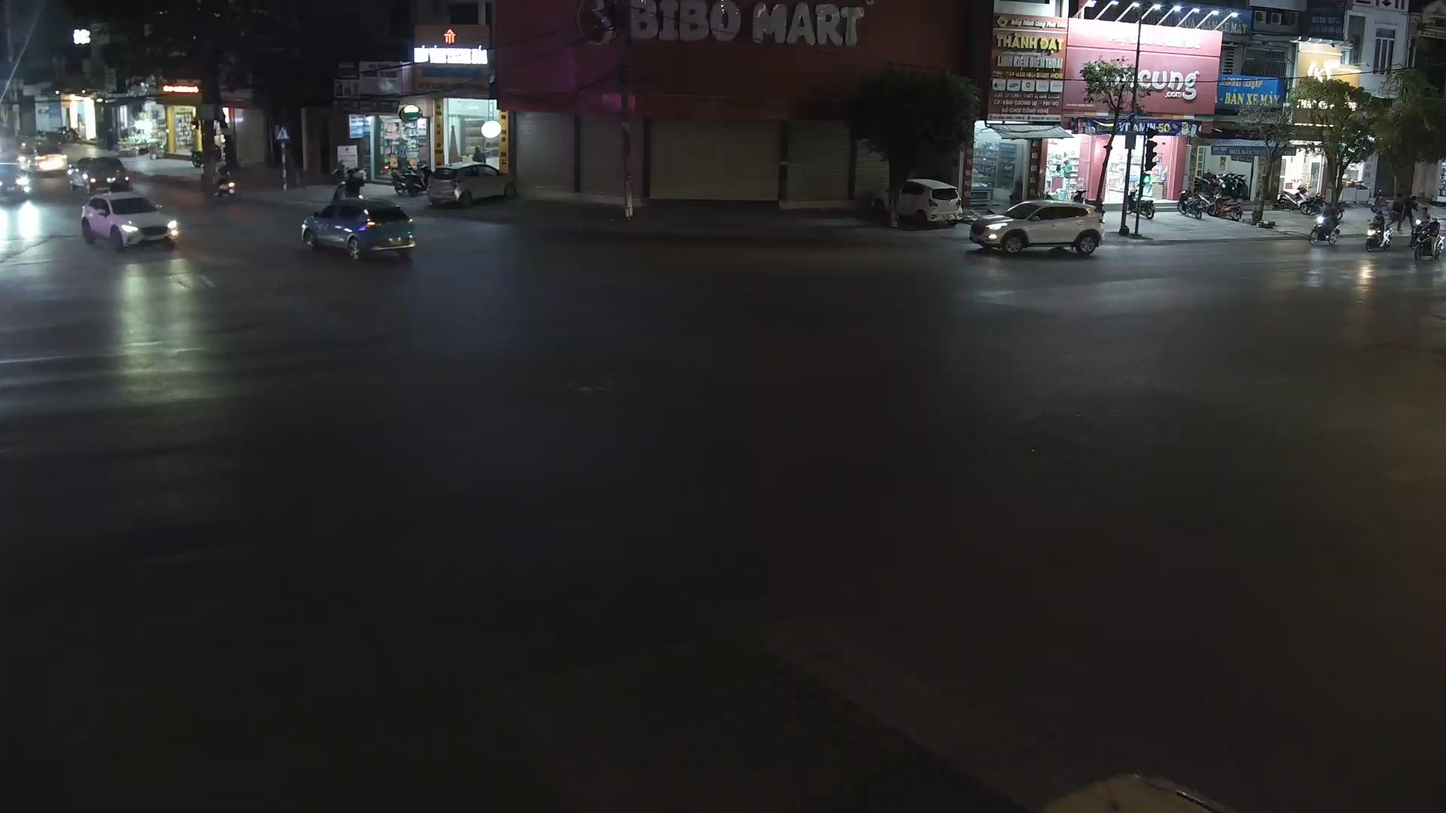car: (299, 181, 419, 267), (969, 198, 1105, 260), (80, 186, 182, 255), (885, 176, 965, 230)
